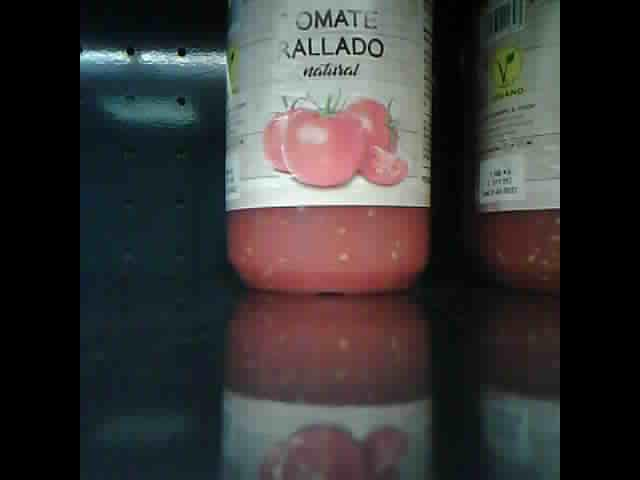tomate: (225, 3, 435, 293), (471, 3, 559, 293)
